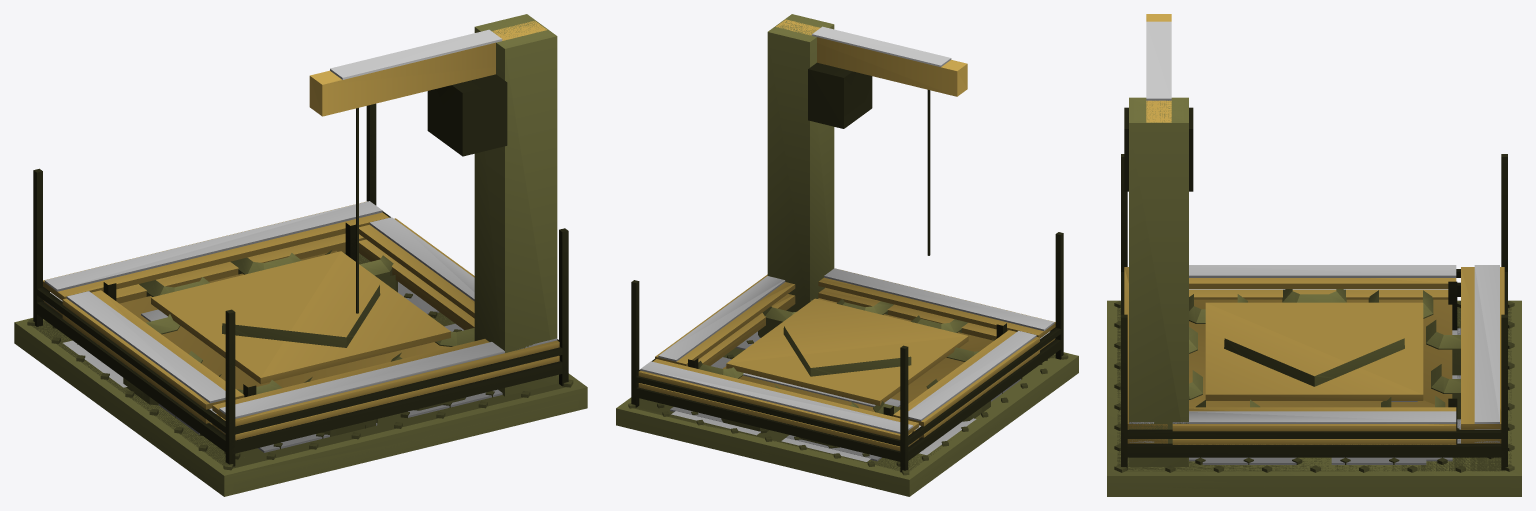
The model's file is meridian_decoy_emplacement_scaffolding.glb.
3 views of the same model, side by side, from view 1: azimuth 30°, elevation 25°; view 2: azimuth 150°, elevation 25°; view 3: azimuth 270°, elevation 25° (orthographic). The views are drawn at different scales.
Parts seen in each view (by area): view 1: body (×3); view 2: body (×3); view 3: body (×3).
Boxes of the visible parts, x1=… form: body (×3): x1=14, y1=14, x2=587, y2=496; body (×3): x1=616, y1=14, x2=1078, y2=496; body (×3): x1=1107, y1=14, x2=1521, y2=496.
Size of the model in its own units: 3.6 by 3.51 by 3.6.
